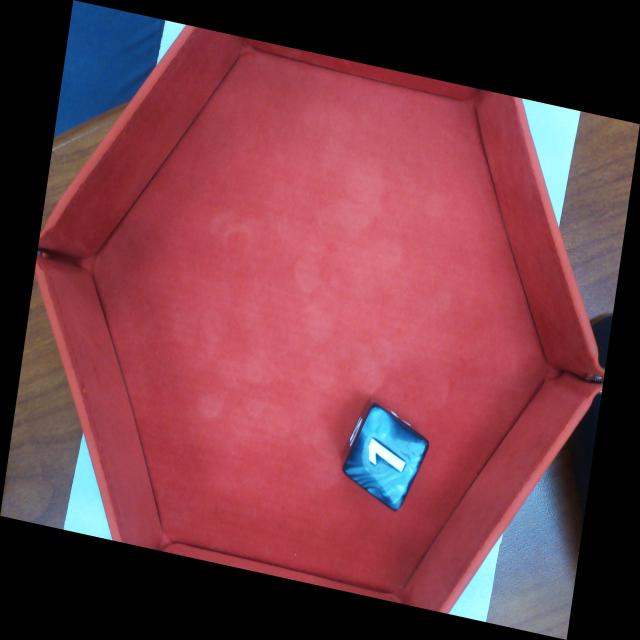dice: (343, 403, 429, 512)
